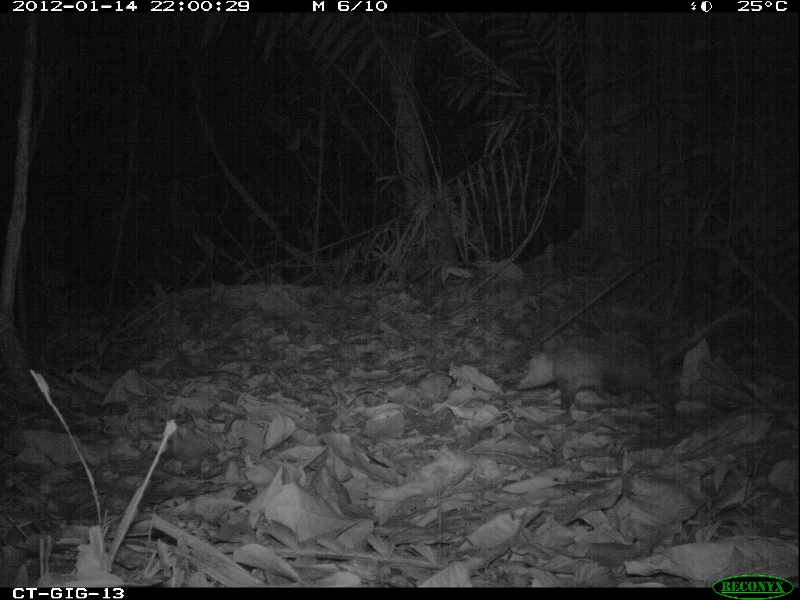opossum: (511, 304, 754, 422)
